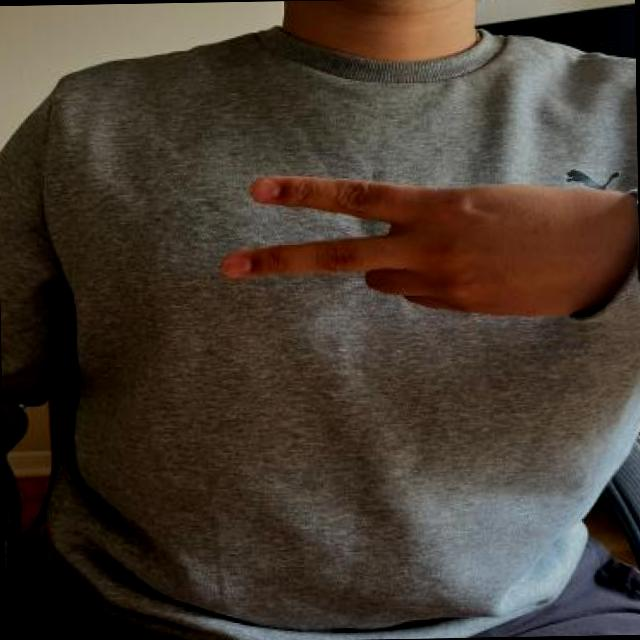H: (217, 159, 640, 349)
